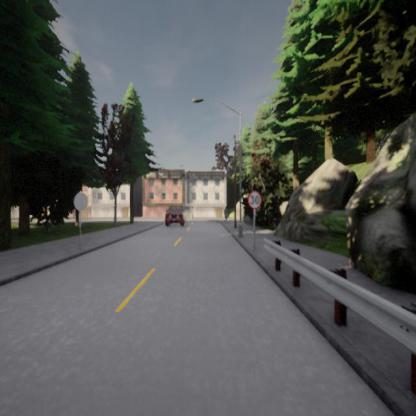traffic_sign_30: (247, 192, 261, 208)
vehicle: (164, 206, 184, 226)
